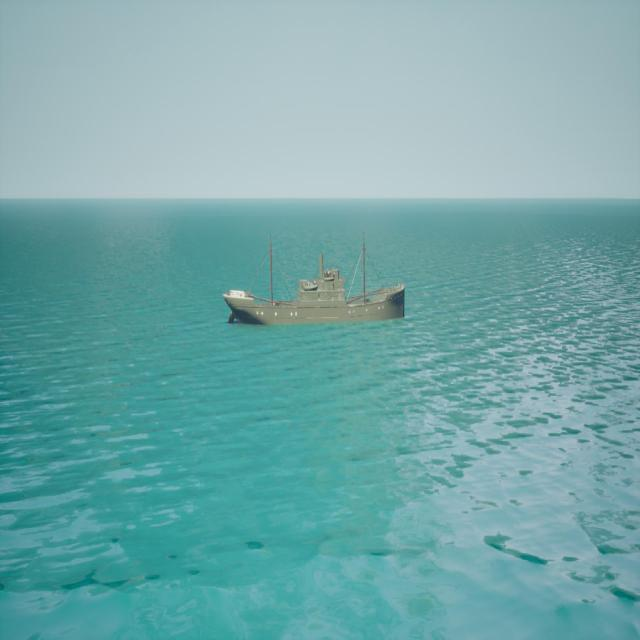fishing ship: (224, 236, 408, 329)
